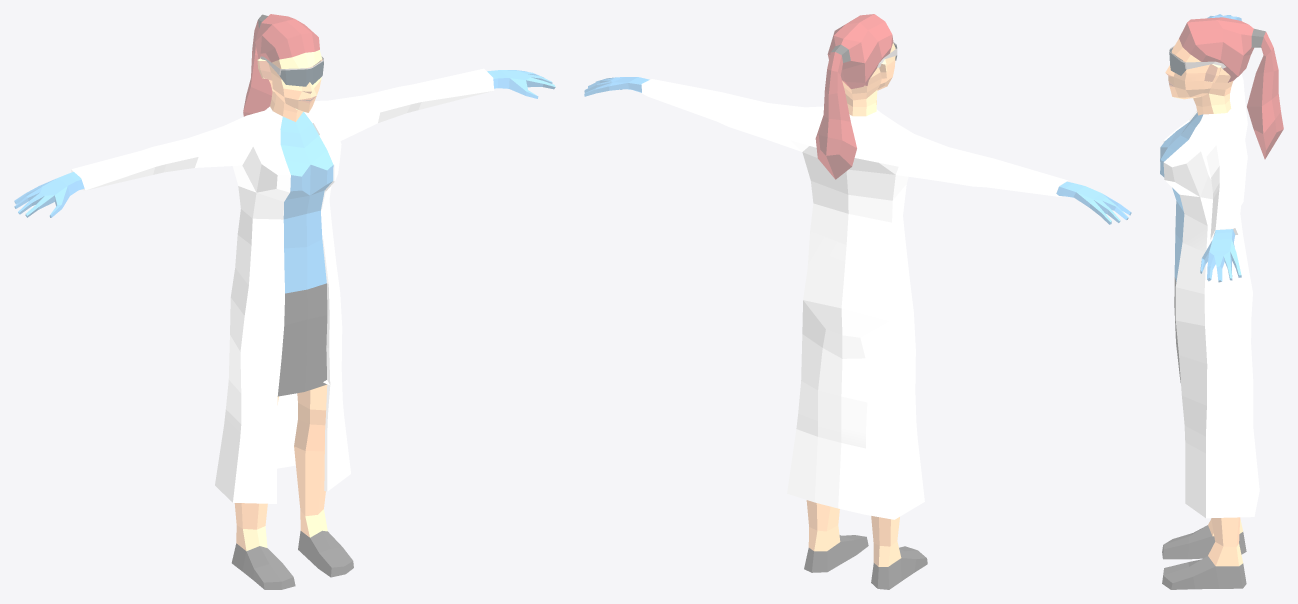
File: 044_woman_scientist.gltf
3 renders of one model, left to right at view 1: azimuth 30°, elevation 25°; view 2: azimuth 150°, elevation 25°; view 3: azimuth 270°, elevation 25°, orthographic.
Visible parts, largest first — view 1: woman_scientist; view 2: woman_scientist; view 3: woman_scientist.
Part boxes in pixels (x1,y1,x2,y2): woman_scientist: [14, 14, 555, 589]; woman_scientist: [584, 14, 1131, 589]; woman_scientist: [1160, 14, 1283, 589].
Size of the model in its own units: 0.0185 by 0.0179 by 0.00367.
1 material, 1 textured.
